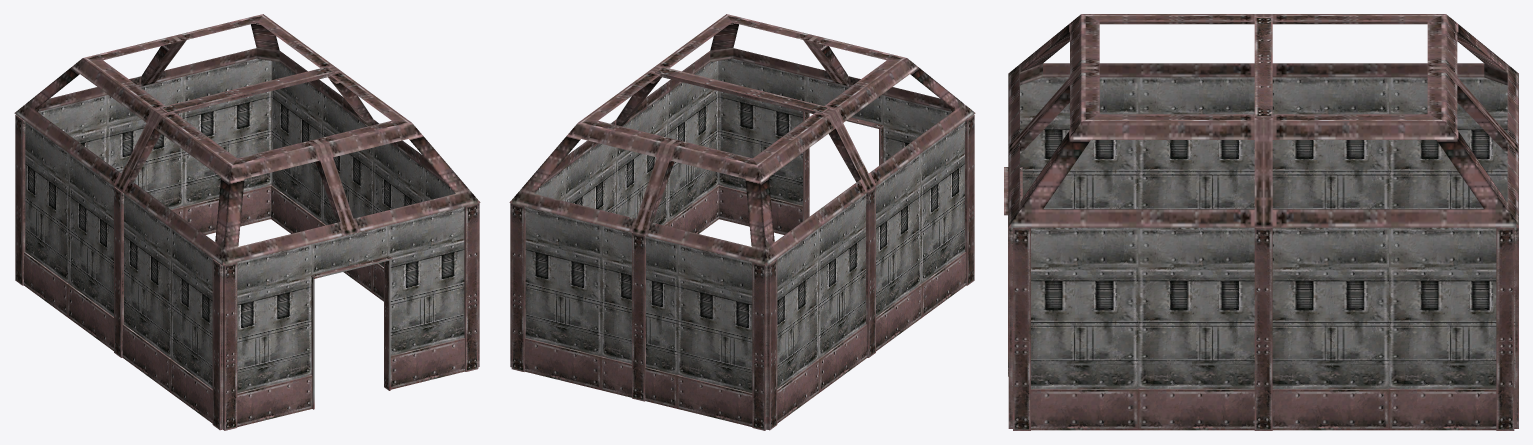
The model's file is eqp_comp_structure_module.fbx.
3 views of the same model, side by side, from view 1: azimuth 30°, elevation 25°; view 2: azimuth 150°, elevation 25°; view 3: azimuth 270°, elevation 25° (orthographic). The views are drawn at different scales.
Parts seen in each view (by area): view 1: mesh_node; view 2: mesh_node; view 3: mesh_node.
Part boxes in pixels (x1,y1,x2,y2): mesh_node: (14, 14, 480, 430); mesh_node: (509, 14, 975, 430); mesh_node: (1004, 14, 1518, 430).
Bounding box in the file's own units: 4.1 × 3.53 × 5.75.
1 material, 1 textured.
